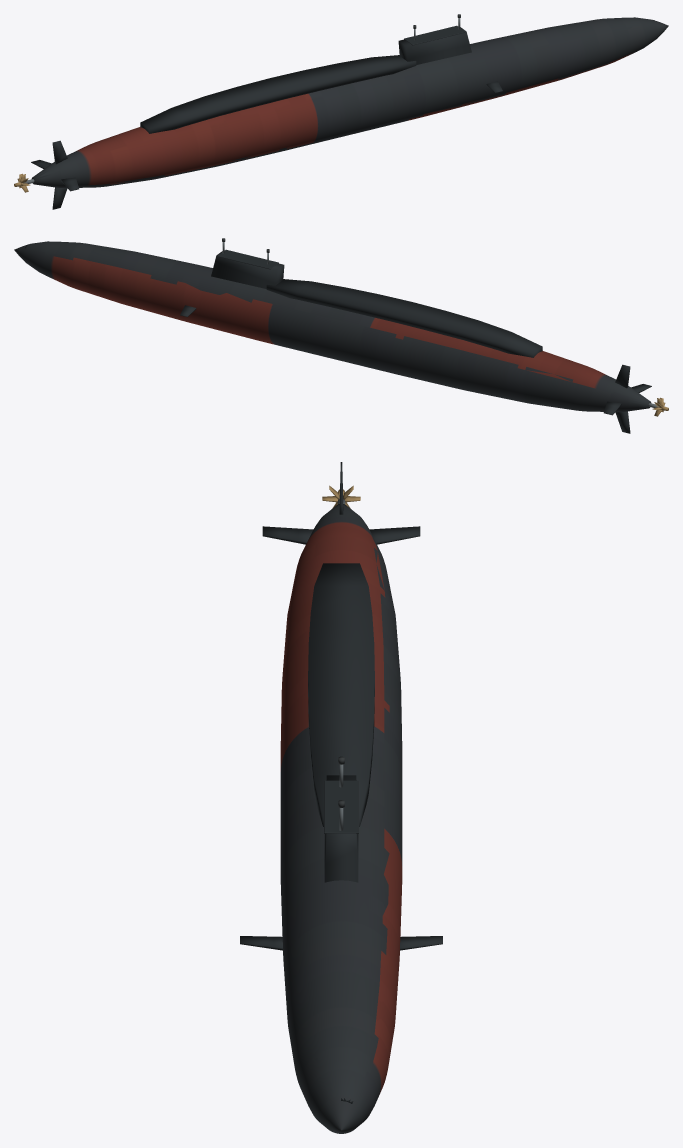
Rendered from FR_SSBN_LeRedoutable_LOD1.fbx.
3 renders of one model, top to bottom at view 1: azimuth 30°, elevation 25°; view 2: azimuth 150°, elevation 25°; view 3: azimuth 270°, elevation 25°, orthographic. The views are drawn at different scales.
Visible parts, largest first — view 1: FR_SSBN_LeRedoutable_LOD1; view 2: FR_SSBN_LeRedoutable_LOD1; view 3: FR_SSBN_LeRedoutable_LOD1.
Boxes of the visible parts, left/top/right/bottom form: FR_SSBN_LeRedoutable_LOD1: left=14, top=14, right=668, bottom=209; FR_SSBN_LeRedoutable_LOD1: left=14, top=238, right=668, bottom=433; FR_SSBN_LeRedoutable_LOD1: left=240, top=462, right=442, bottom=1133.
Size of the model in its own units: 132 by 17.72 by 18.41.
Materials: 6 (1 with a texture image).
